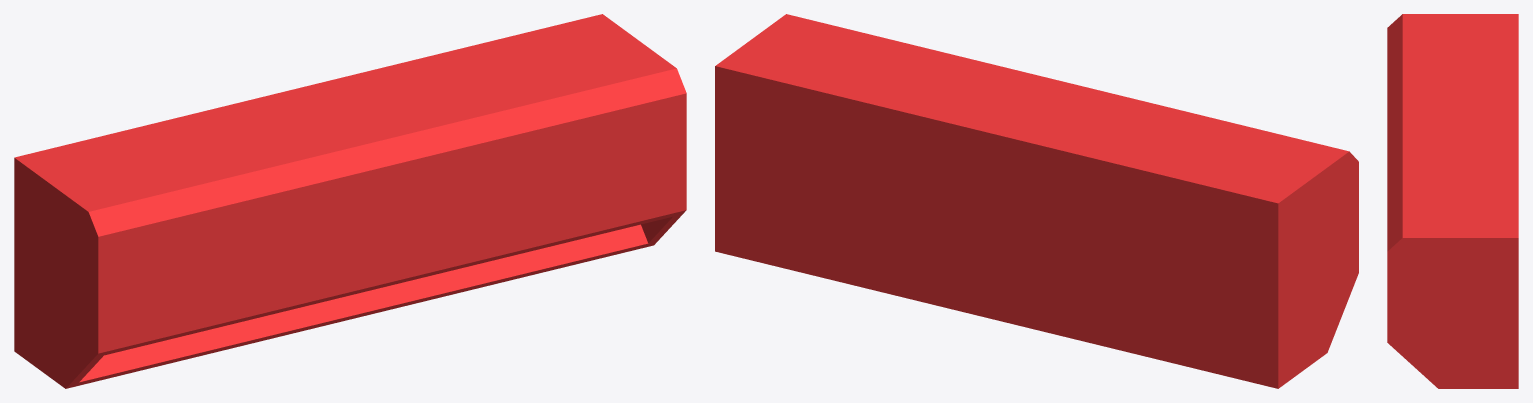
File: Itr_Airconditioner3_Body_02.FBX
The picture shows the model from 3 angles, left to right: view 1: azimuth 30°, elevation 25°; view 2: azimuth 150°, elevation 25°; view 3: azimuth 270°, elevation 25°; orthographic projection. The views are drawn at different scales.
Visible parts, largest first — view 1: Itr_Airconditioner3_Body_02; view 2: Itr_Airconditioner3_Body_02; view 3: Itr_Airconditioner3_Body_02.
Boxes of the visible parts, left/top/right/bottom form: Itr_Airconditioner3_Body_02: left=14, top=14, right=686, bottom=388; Itr_Airconditioner3_Body_02: left=715, top=14, right=1358, bottom=388; Itr_Airconditioner3_Body_02: left=1387, top=14, right=1518, bottom=388.
Size of the model in its own units: 53.24 by 16.76 by 13.19.
